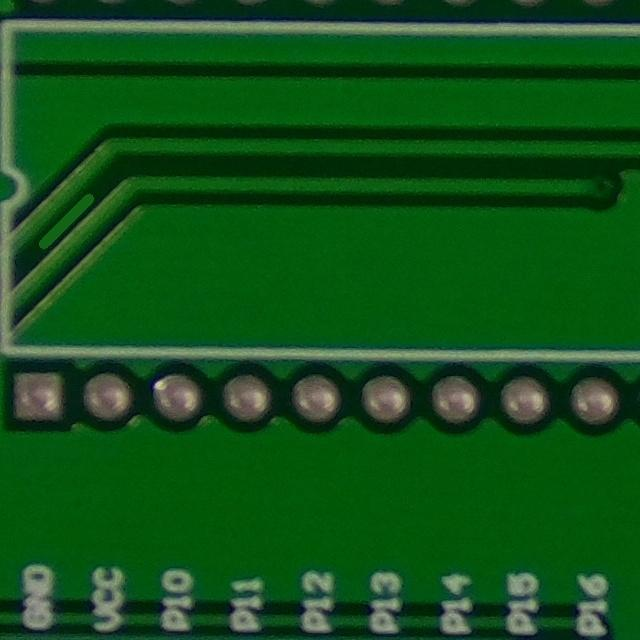spurious_copper: (15, 179, 131, 259)
